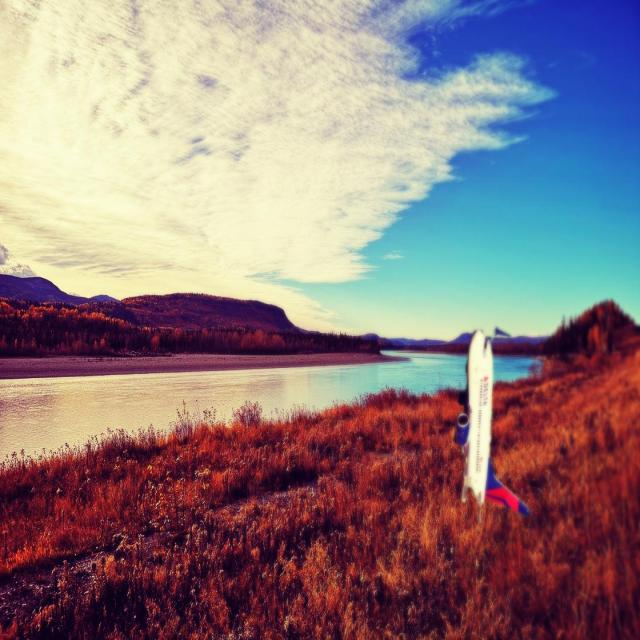airplane: (453, 328, 530, 518)
